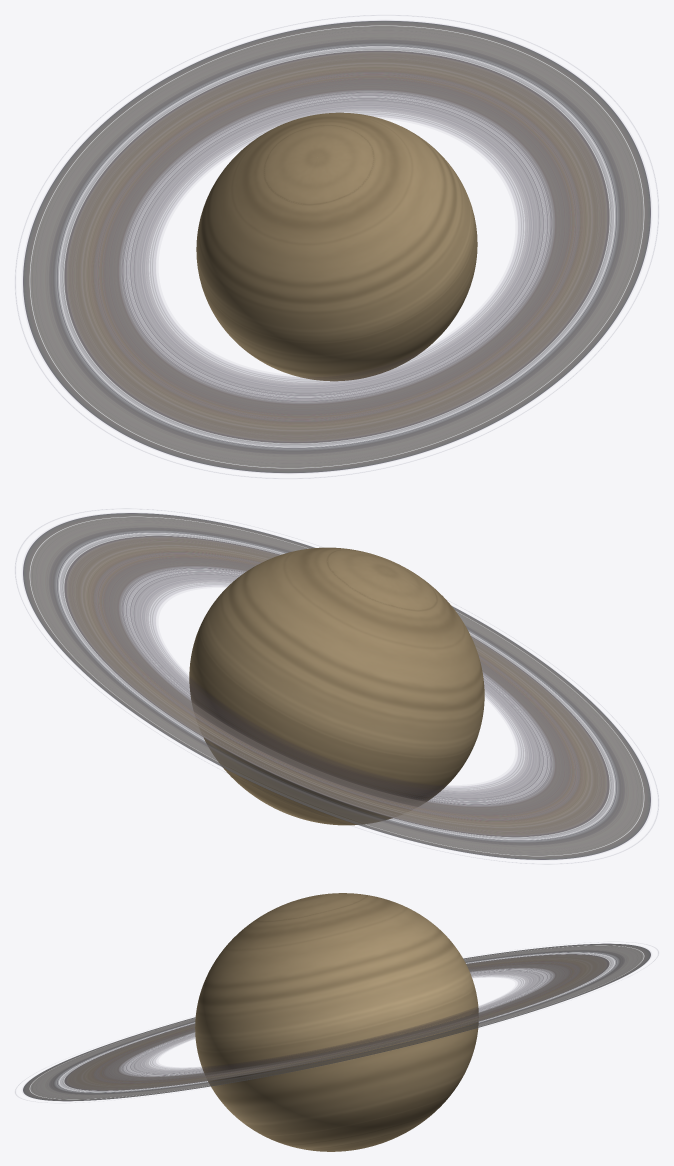
File: saturn.glb
3 renders of one model, top to bottom at view 1: azimuth 30°, elevation 25°; view 2: azimuth 150°, elevation 25°; view 3: azimuth 270°, elevation 25°, orthographic. The views are drawn at different scales.
Visible parts, largest first — view 1: Rings, Saturn; view 2: Rings, Saturn; view 3: Saturn, Rings.
Boxes of the visible parts, bbox=[...] form: Rings: bbox=[23, 20, 650, 473]; Saturn: bbox=[196, 112, 477, 381]; Rings: bbox=[23, 513, 650, 859]; Saturn: bbox=[189, 547, 484, 825]; Saturn: bbox=[195, 893, 478, 1151]; Rings: bbox=[23, 943, 650, 1101].
Bounding box in the file's own units: 4.43 × 1.83 × 4.53.
2 materials, 2 textured.
